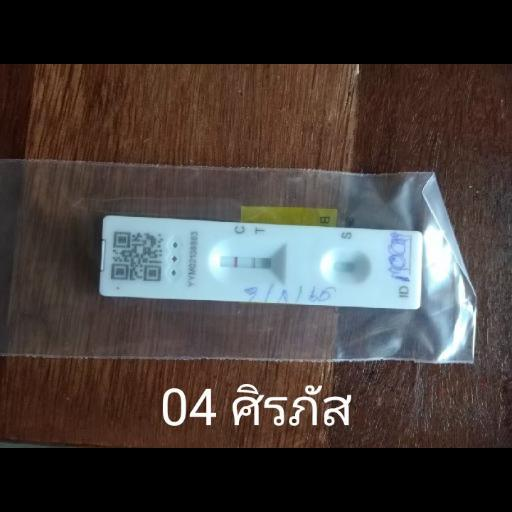Neg: (97, 213, 425, 309)
